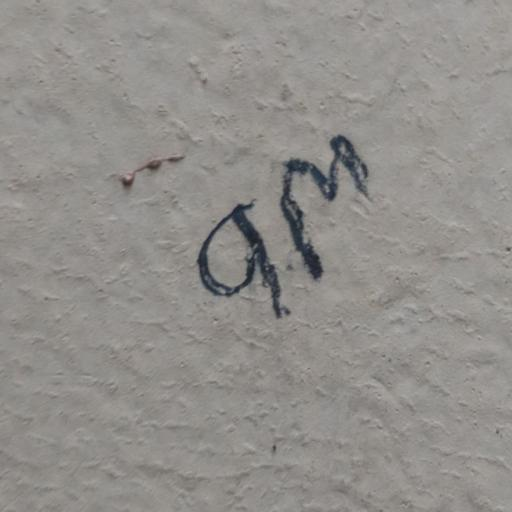stain: (172, 114, 396, 349), (114, 121, 192, 212)
